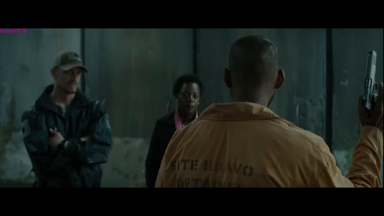firearm: (355, 48, 381, 116)
